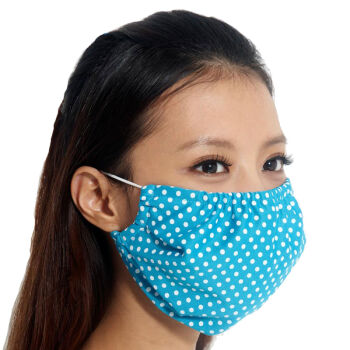face_mask: (124, 77, 295, 315)
